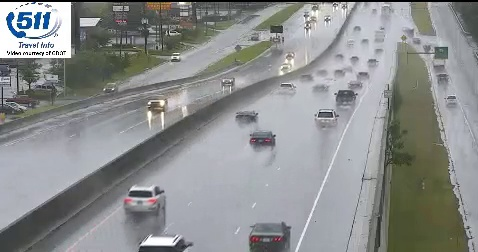car: (125, 186, 166, 215), (250, 222, 290, 249), (250, 131, 275, 149), (315, 109, 337, 128), (336, 90, 355, 106)
